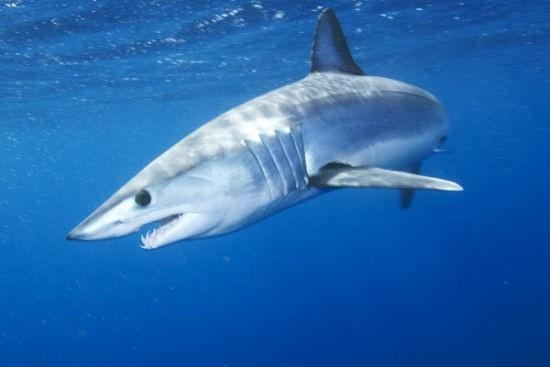fish: (66, 6, 465, 256)
